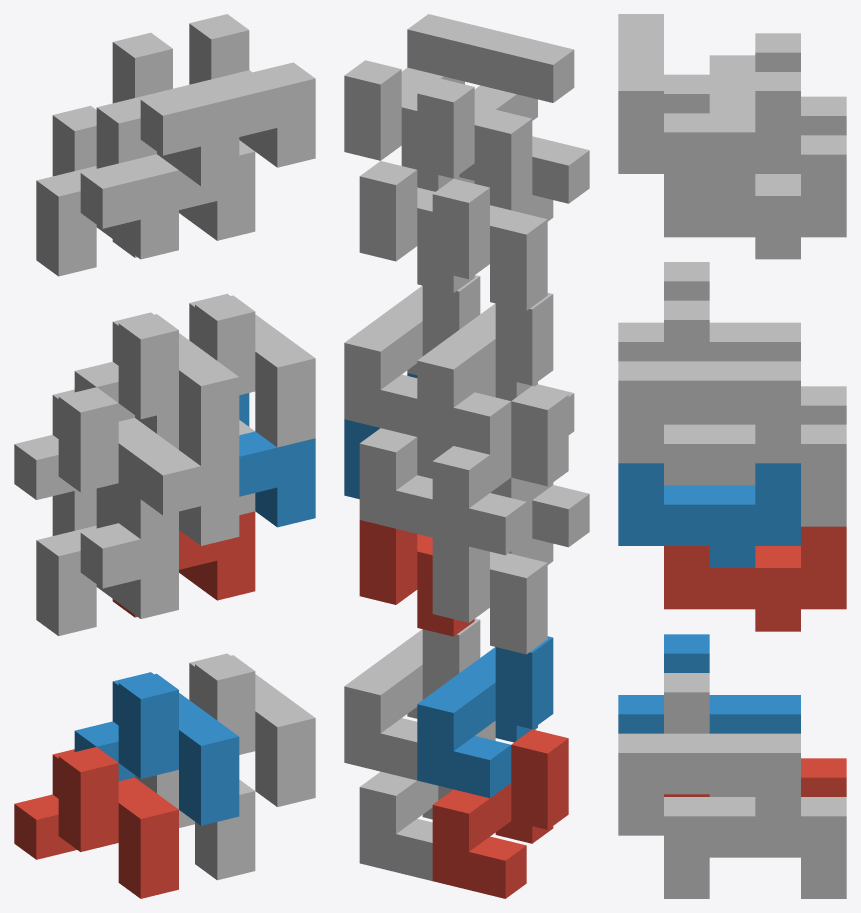
File: tiling.obj
3 views of the same model, side by side, from view 1: azimuth 30°, elevation 25°; view 2: azimuth 150°, elevation 25°; view 3: azimuth 270°, elevation 25° (orthographic). The views are drawn at different scales.
Visible parts, largest first — view 1: copy_2_domain_3, copy_1_domain_1, copy_2_domain_4, copy_2_domain_1, copy_1_domain_4, copy_1_domain_2, copy_1_domain_3, copy_1_domain_8, copy_1_domain_6, copy_2_domain_8, copy_2_domain_2, copy_2_domain_6 (+4 smaller); view 2: copy_2_domain_4, copy_1_domain_2, copy_1_domain_4, copy_2_domain_3, copy_1_domain_1, copy_1_domain_3, copy_2_domain_1, copy_2_domain_8, copy_1_domain_6, copy_1_domain_8, copy_2_domain_7, copy_1_domain_5 (+4 smaller); view 3: copy_1_domain_6, copy_1_domain_8, copy_2_domain_8, copy_2_domain_6, copy_2_domain_7, copy_1_domain_5, copy_2_domain_5, copy_1_domain_7, copy_1_domain_4, copy_2_domain_4, copy_1_domain_2, copy_1_domain_1 (+2 smaller).
Part boxes in pixels (box(x1,y1,x2,y2)): copy_2_domain_3: box(36, 105, 178, 276); copy_1_domain_1: box(14, 747, 178, 898); copy_2_domain_4: box(96, 32, 239, 186); copy_2_domain_1: box(36, 488, 178, 635); copy_1_domain_4: box(74, 312, 239, 465); copy_1_domain_2: box(74, 672, 239, 825); copy_1_domain_3: box(14, 387, 178, 538); copy_1_domain_8: box(189, 293, 315, 447); copy_1_domain_6: box(189, 653, 315, 806); copy_2_domain_8: box(173, 14, 315, 167); copy_2_domain_2: box(96, 450, 239, 545); copy_2_domain_6: box(239, 393, 315, 527); copy_2_domain_4: box(417, 32, 574, 210); copy_1_domain_2: box(417, 636, 553, 798); copy_1_domain_4: box(417, 293, 553, 454); copy_2_domain_3: box(432, 136, 589, 310); copy_1_domain_1: box(432, 729, 568, 898); copy_1_domain_3: box(432, 386, 568, 555); copy_2_domain_1: box(432, 485, 589, 654); copy_2_domain_8: box(344, 14, 500, 191); copy_1_domain_6: box(344, 618, 480, 780); copy_1_domain_8: box(344, 275, 480, 436); copy_2_domain_7: box(359, 161, 474, 292); copy_1_domain_5: box(359, 721, 495, 880); copy_1_domain_6: box(618, 673, 800, 835); copy_1_domain_8: box(618, 300, 800, 463); copy_2_domain_8: box(618, 52, 800, 195); copy_2_domain_6: box(618, 463, 800, 567); copy_2_domain_7: box(664, 135, 846, 259); copy_1_domain_5: box(664, 794, 846, 898); copy_2_domain_5: box(664, 526, 846, 631); copy_1_domain_7: box(664, 422, 846, 526); copy_1_domain_4: box(618, 262, 800, 361); copy_2_domain_4: box(618, 14, 800, 113); copy_1_domain_2: box(618, 634, 800, 733); copy_1_domain_1: box(664, 758, 846, 796).
Size of the model in its own units: 5 by 20 by 5.
